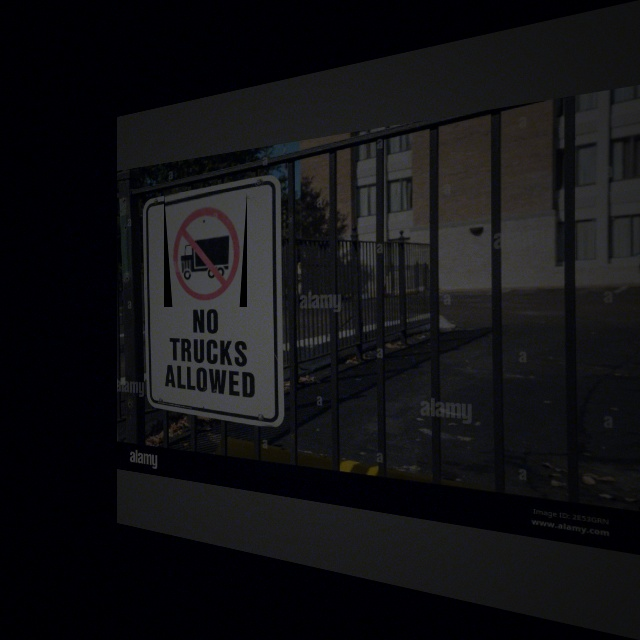Truck_Prohibited: (164, 192, 247, 307)
